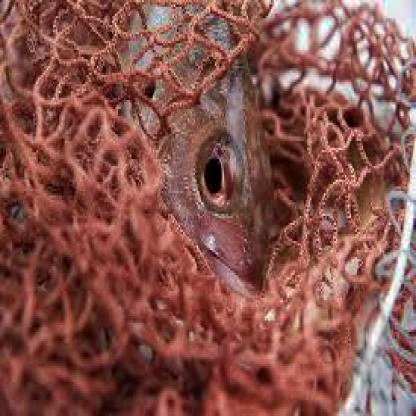net: (3, 2, 416, 416)
